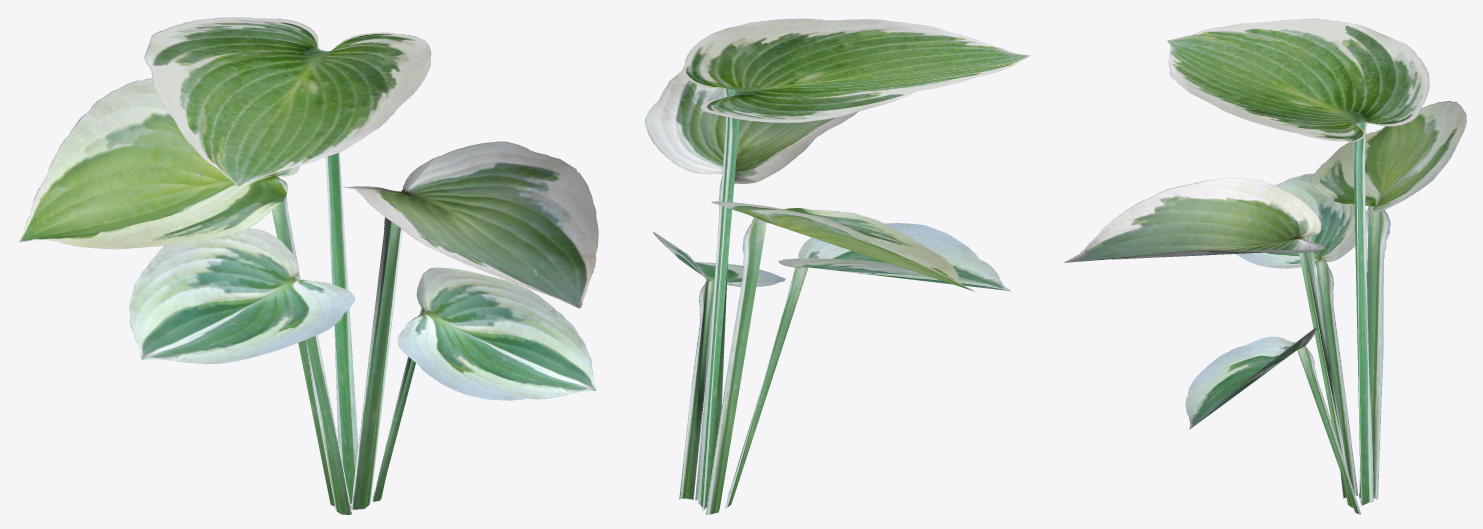
The model's file is plant_small_wg_00_o-corner02.fbx.
3 renders of one model, left to right at view 1: azimuth 30°, elevation 25°; view 2: azimuth 150°, elevation 25°; view 3: azimuth 270°, elevation 25°, orthographic. The views are drawn at different scales.
Parts seen in each view (by area): view 1: plant_small_wg_00_o-corner02; view 2: plant_small_wg_00_o-corner02; view 3: plant_small_wg_00_o-corner02.
Boxes of the visible parts, x1=… form: plant_small_wg_00_o-corner02: x1=19, y1=17, x2=598, y2=514; plant_small_wg_00_o-corner02: x1=645, y1=18, x2=1030, y2=514; plant_small_wg_00_o-corner02: x1=1064, y1=18, x2=1466, y2=514.
Size of the model in its own units: 33.93 by 34.82 by 32.14.
Materials: 1 (1 with a texture image).
